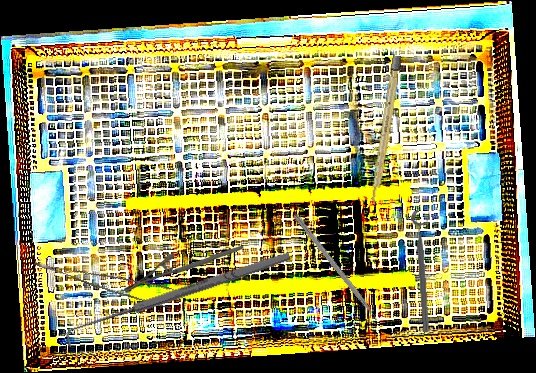Chopper: (286, 212, 385, 333)
Fixation Ring: (410, 209, 440, 333)
Hook Surgical: (61, 247, 295, 349)
Needle Holder: (122, 245, 245, 294)
Scalpel Handle: (369, 55, 402, 206)
Tissue Forceps: (33, 239, 178, 316)
